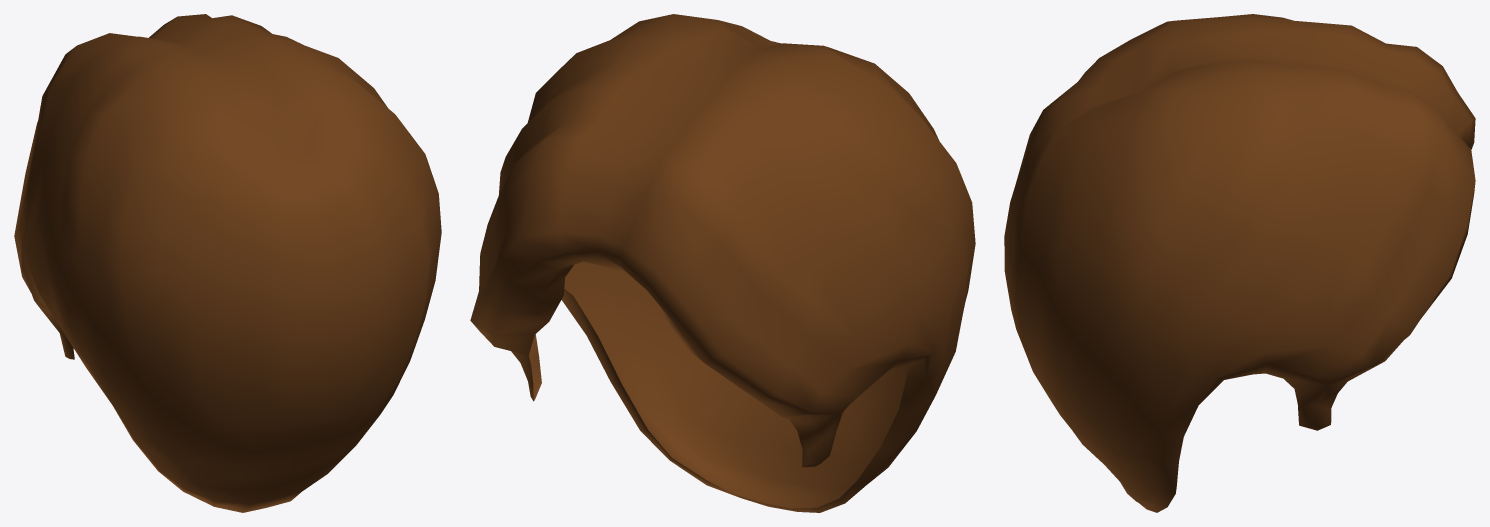
The model's file is Hair_Male_003.glb.
3 renders of one model, left to right at view 1: azimuth 30°, elevation 25°; view 2: azimuth 150°, elevation 25°; view 3: azimuth 270°, elevation 25°, orthographic. The views are drawn at different scales.
Visible parts, largest first — view 1: Hair_Male_003; view 2: Hair_Male_003; view 3: Hair_Male_003.
Boxes of the visible parts, x1,y1,x2,y2 form: Hair_Male_003: (14,14,441,512); Hair_Male_003: (470,14,975,512); Hair_Male_003: (1004,14,1475,512).
Bounding box in the file's own units: 0.2155 × 0.2438 × 0.2307.
